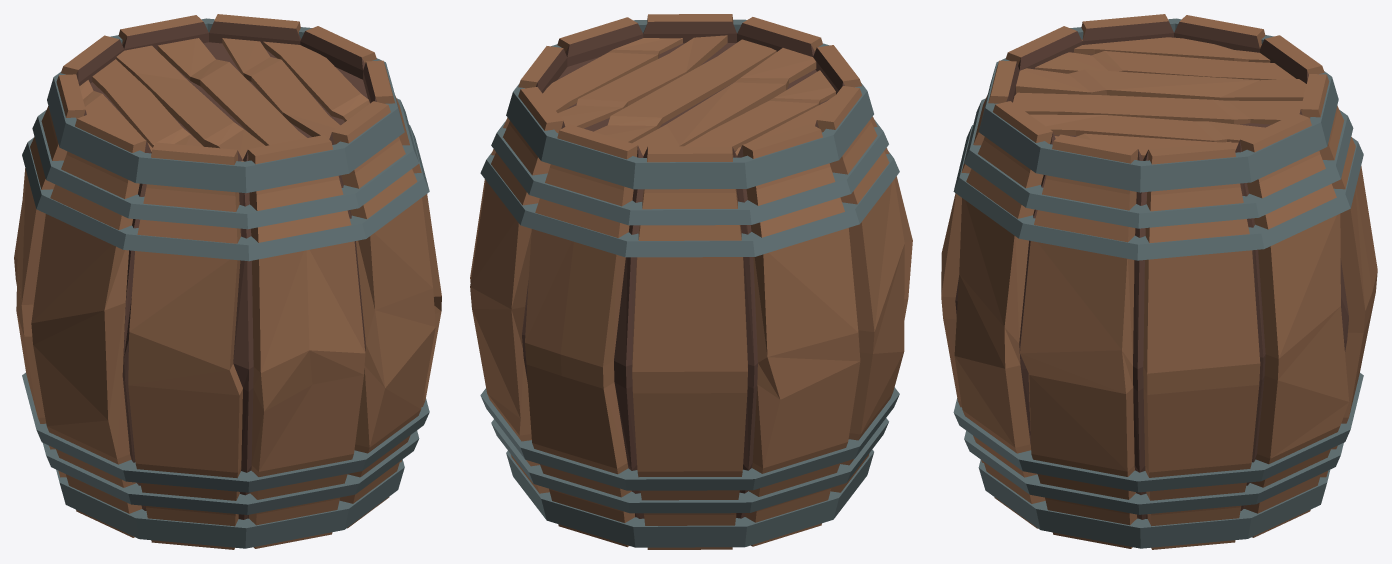
Rendered from Barrel.obj.
3 renders of one model, left to right at view 1: azimuth 30°, elevation 25°; view 2: azimuth 150°, elevation 25°; view 3: azimuth 270°, elevation 25°, orthographic.
Bounding box in the file's own units: 1 × 1 × 1.
